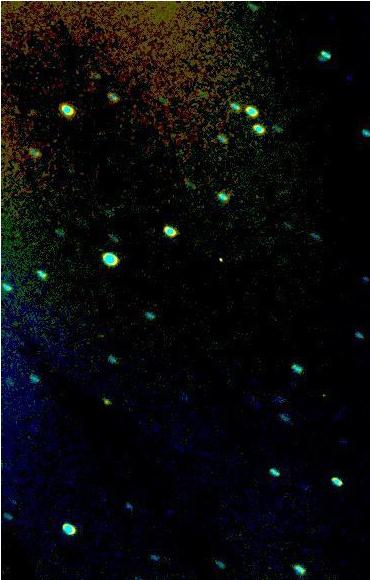star: (87, 384, 117, 414)
